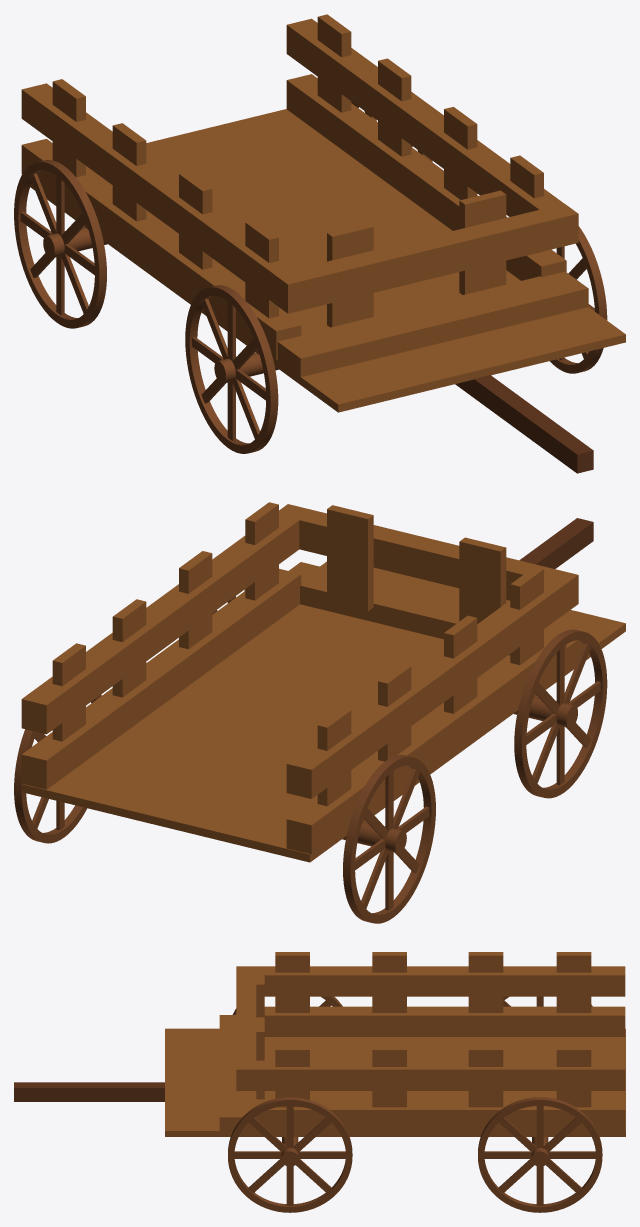
3 views of the same model, one above another, from view 1: azimuth 30°, elevation 25°; view 2: azimuth 150°, elevation 25°; view 3: azimuth 270°, elevation 25° (orthographic). The views are drawn at different scales.
Visible parts, largest first — view 1: deck, lower.001, lower, end_bar, rim.001, rim.003, beam, rim.002; view 2: deck, lower, lower.001, end_bar, rim.003, rim.001, rim, beam; view 3: lower.001, lower, deck, rim.002, rim, end_bar, beam.
Part boxes in pixels (x1,y1,x2,y2): deck: [30, 109, 625, 412]; lower.001: [21, 79, 301, 360]; lower: [286, 14, 566, 280]; end_bar: [274, 190, 578, 327]; rim.001: [14, 160, 106, 328]; rim.003: [185, 285, 278, 453]; beam: [455, 375, 593, 473]; rim.002: [550, 226, 607, 373]; deck: [22, 561, 625, 862]; lower: [21, 502, 301, 789]; lower.001: [286, 567, 566, 854]; end_bar: [279, 504, 578, 623]; rim.003: [514, 629, 607, 798]; rim.001: [343, 755, 435, 923]; rim: [14, 694, 101, 843]; beam: [519, 518, 593, 568]; lower.001: [253, 952, 625, 1036]; lower: [253, 1046, 625, 1131]; deck: [165, 1015, 625, 1136]; rim.002: [228, 1097, 352, 1212]; rim: [478, 1097, 602, 1212]; end_bar: [236, 966, 264, 1099]; beam: [14, 1082, 164, 1101].
Size of the model in its own units: 0.8713 by 0.492 by 1.8.
